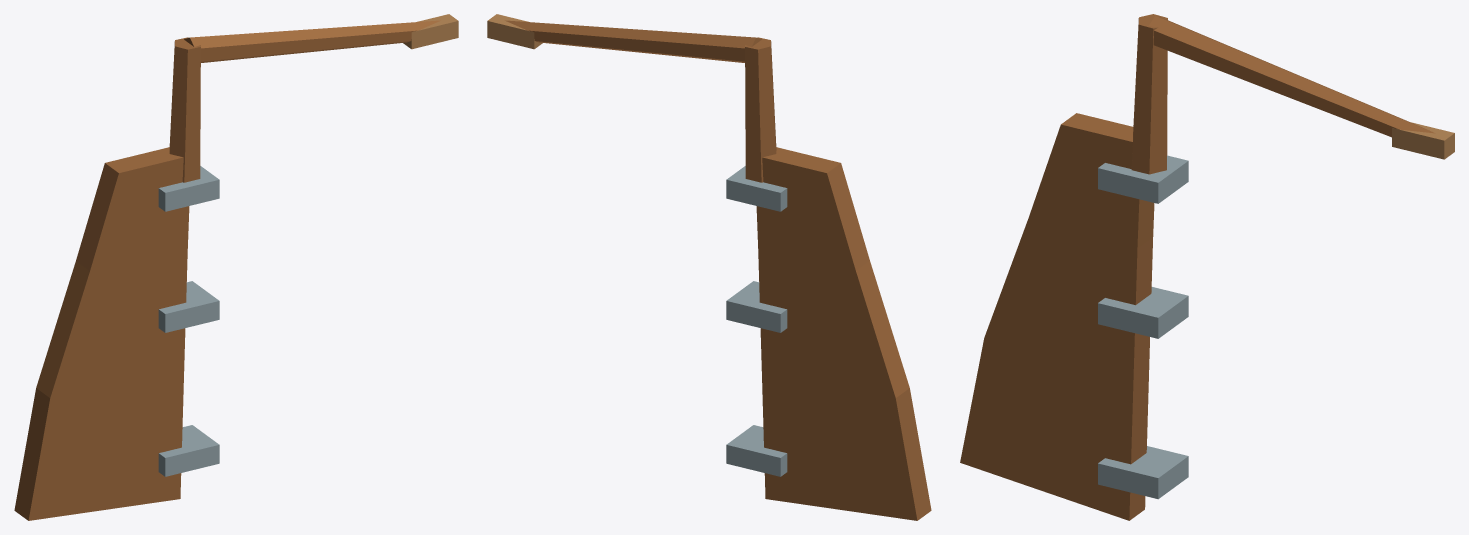
Rendered from ship_rudder.glb.
3 renders of one model, left to right at view 1: azimuth 30°, elevation 25°; view 2: azimuth 150°, elevation 25°; view 3: azimuth 330°, elevation 25°, orthographic. The views are drawn at different scales.
Visible parts, largest first — view 1: Rudder_Blade_Front, Rudder_Blade_Rim_4, Rudder_Tiller, Rudder_Stock, Rudder_Pintle_1, Rudder_Pintle_2, Rudder_Pintle_3, Rudder_Tiller_Grip, Rudder_Blade_Rim_2; view 2: Rudder_Blade_Back, Rudder_Blade_Rim_4, Rudder_Tiller, Rudder_Stock, Rudder_Pintle_1, Rudder_Pintle_2, Rudder_Pintle_3, Rudder_Tiller_Grip, Rudder_Blade_Rim_2; view 3: Rudder_Blade_Front, Rudder_Tiller, Rudder_Stock, Rudder_Blade_Rim_3, Rudder_Pintle_1, Rudder_Pintle_2, Rudder_Pintle_3, Rudder_Tiller_Grip, Rudder_Blade_Rim_2.
Part boxes in pixels (left/top/right/bottom): Rudder_Blade_Front: left=28, top=157, right=189, bottom=520; Rudder_Blade_Rim_4: left=14, top=163, right=118, bottom=520; Rudder_Tiller: left=184, top=20, right=440, bottom=62; Rudder_Stock: left=169, top=37, right=200, bottom=182; Rudder_Pintle_1: left=158, top=425, right=219, bottom=476; Rudder_Pintle_2: left=158, top=281, right=219, bottom=332; Rudder_Pintle_3: left=158, top=166, right=219, bottom=211; Rudder_Tiller_Grip: left=403, top=14, right=458, bottom=49; Rudder_Blade_Rim_2: left=105, top=147, right=183, bottom=172; Rudder_Blade_Back: left=756, top=157, right=917, bottom=520; Rudder_Blade_Rim_4: left=827, top=163, right=931, bottom=520; Rudder_Tiller: left=505, top=20, right=761, bottom=62; Rudder_Stock: left=745, top=37, right=776, bottom=182; Rudder_Pintle_1: left=726, top=425, right=787, bottom=476; Rudder_Pintle_2: left=726, top=281, right=787, bottom=332; Rudder_Pintle_3: left=726, top=166, right=787, bottom=211; Rudder_Tiller_Grip: left=487, top=14, right=542, bottom=49; Rudder_Blade_Rim_2: left=762, top=147, right=840, bottom=172; Rudder_Blade_Front: left=960, top=124, right=1139, bottom=520; Rudder_Tiller: left=1149, top=15, right=1435, bottom=137; Rudder_Stock: left=1131, top=14, right=1167, bottom=174; Rudder_Blade_Rim_3: left=1129, top=199, right=1154, bottom=520; Rudder_Pintle_1: left=1098, top=446, right=1188, bottom=499; Rudder_Pintle_2: left=1098, top=287, right=1188, bottom=338; Rudder_Pintle_3: left=1098, top=155, right=1188, bottom=203; Rudder_Tiller_Grip: left=1392, top=122, right=1454, bottom=159; Rudder_Blade_Rim_2: left=1061, top=113, right=1133, bottom=141.
Size of the model in its own units: 2.39 by 2.39 by 0.26.
